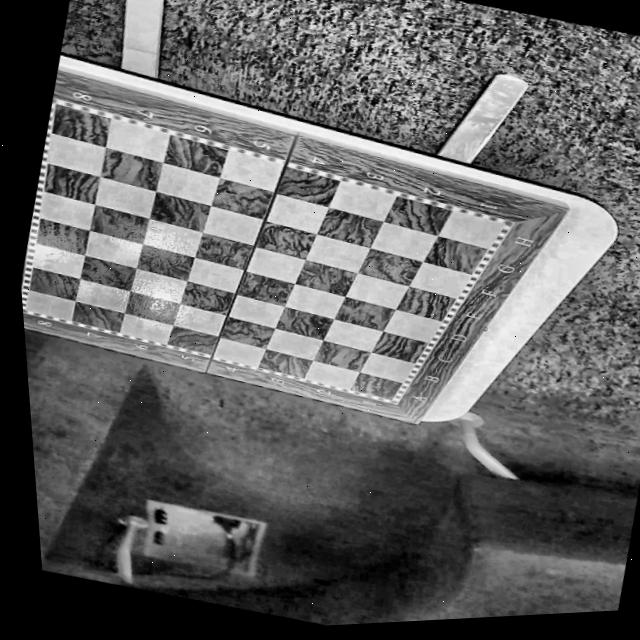chessboard: (24, 104, 503, 401)
